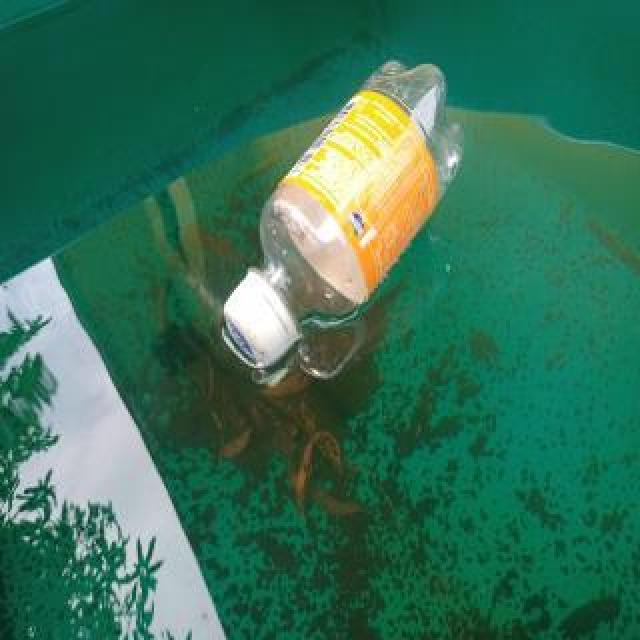bottle: (217, 50, 471, 376)
